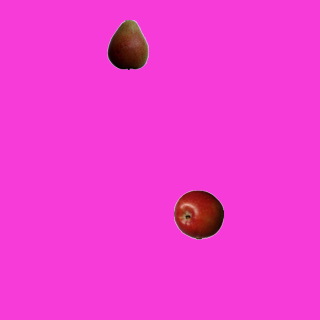Apple Braeburn: (173, 189, 223, 239)
Pear Forelle: (102, 19, 152, 69)
